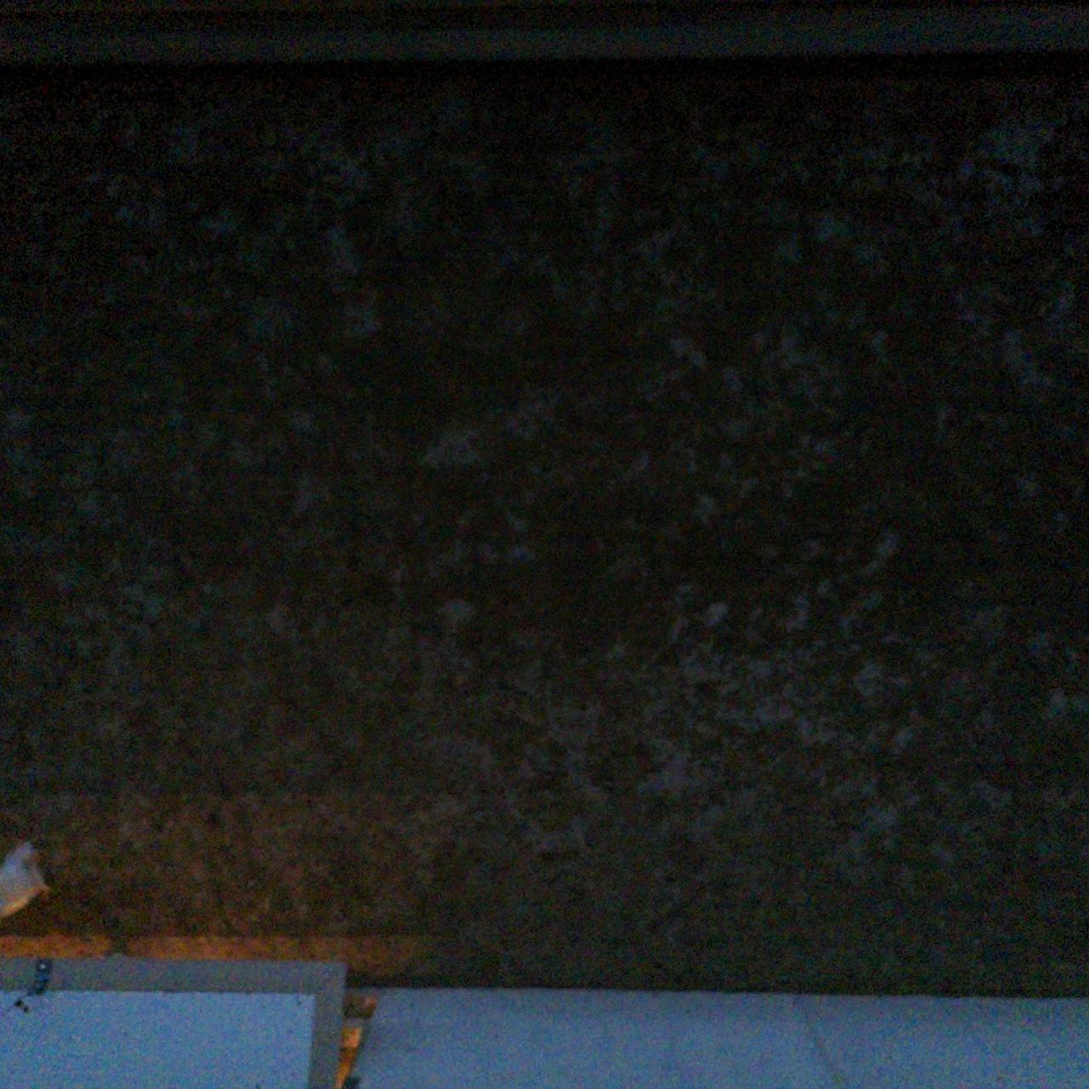chicken: (0, 830, 50, 924)
